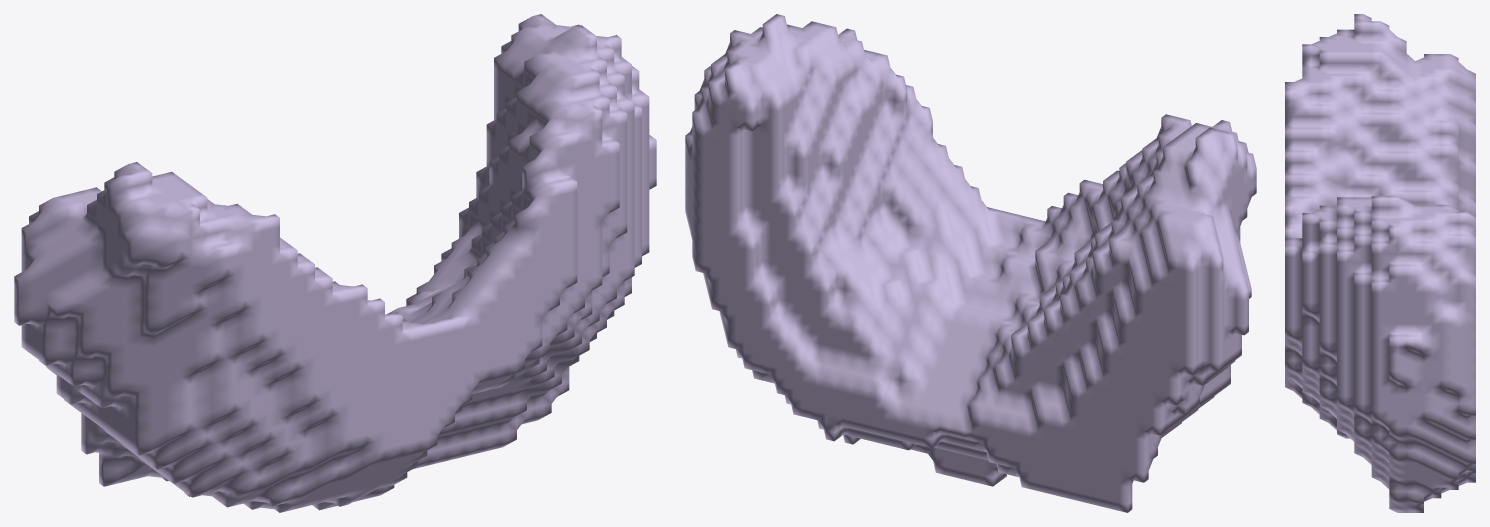
Rendered from region-8.glb.
The picture shows the model from 3 angles, left to right: view 1: azimuth 30°, elevation 25°; view 2: azimuth 150°, elevation 25°; view 3: azimuth 270°, elevation 25°; orthographic projection. The views are drawn at different scales.
Parts seen in each view (by area): view 1: digimouse-volume:8; view 2: digimouse-volume:8; view 3: digimouse-volume:8.
Part boxes in pixels (x1=…): digimouse-volume:8: x1=14, y1=14, x2=656, y2=512; digimouse-volume:8: x1=685, y1=14, x2=1256, y2=512; digimouse-volume:8: x1=1285, y1=14, x2=1475, y2=512.
Size of the model in its own units: 0.007 by 0.0046 by 0.0022.
